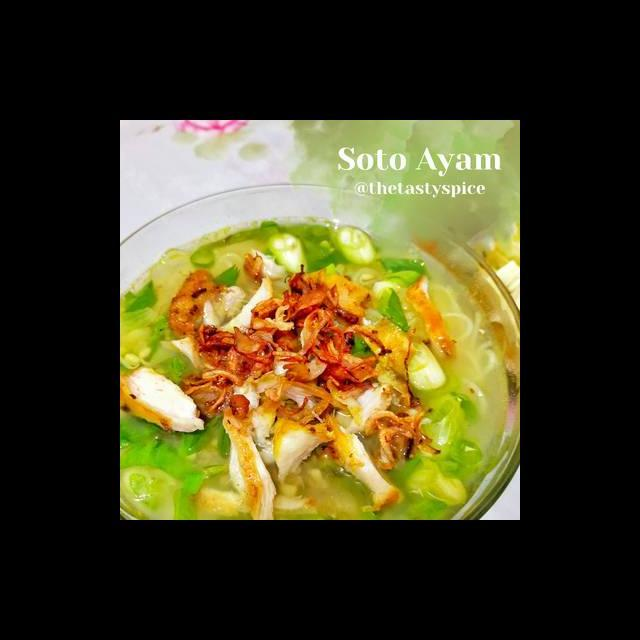Soto: (119, 210, 515, 520)
